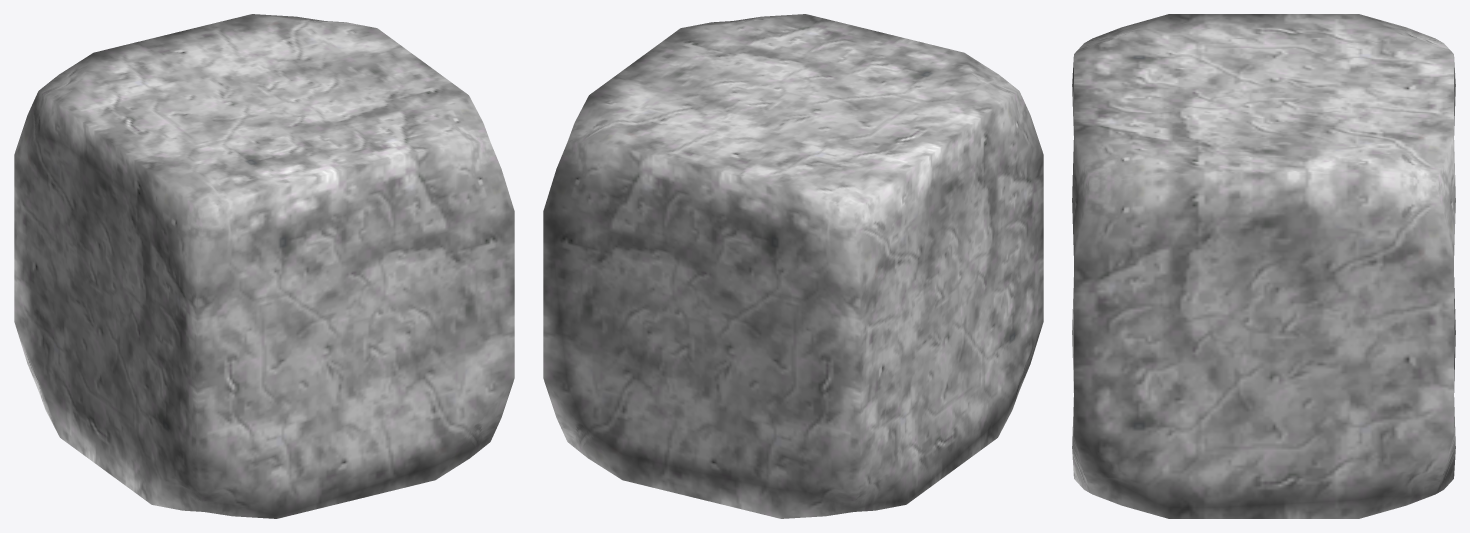
Rendered from INST_OH_PUSH_BLOCK_01.fbx.
The picture shows the model from 3 angles, left to right: view 1: azimuth 30°, elevation 25°; view 2: azimuth 150°, elevation 25°; view 3: azimuth 270°, elevation 25°; orthographic projection. The views are drawn at different scales.
Visible parts, largest first — view 1: INST_OH_PUSH_BLOCK_01; view 2: INST_OH_PUSH_BLOCK_01; view 3: INST_OH_PUSH_BLOCK_01.
Boxes of the visible parts, x1,y1,x2,y2 form: INST_OH_PUSH_BLOCK_01: (14,14,514,518); INST_OH_PUSH_BLOCK_01: (543,14,1043,518); INST_OH_PUSH_BLOCK_01: (1072,14,1455,518).
Size of the model in its own units: 10100 by 10100 by 10100.
Materials: 1 (1 with a texture image).
